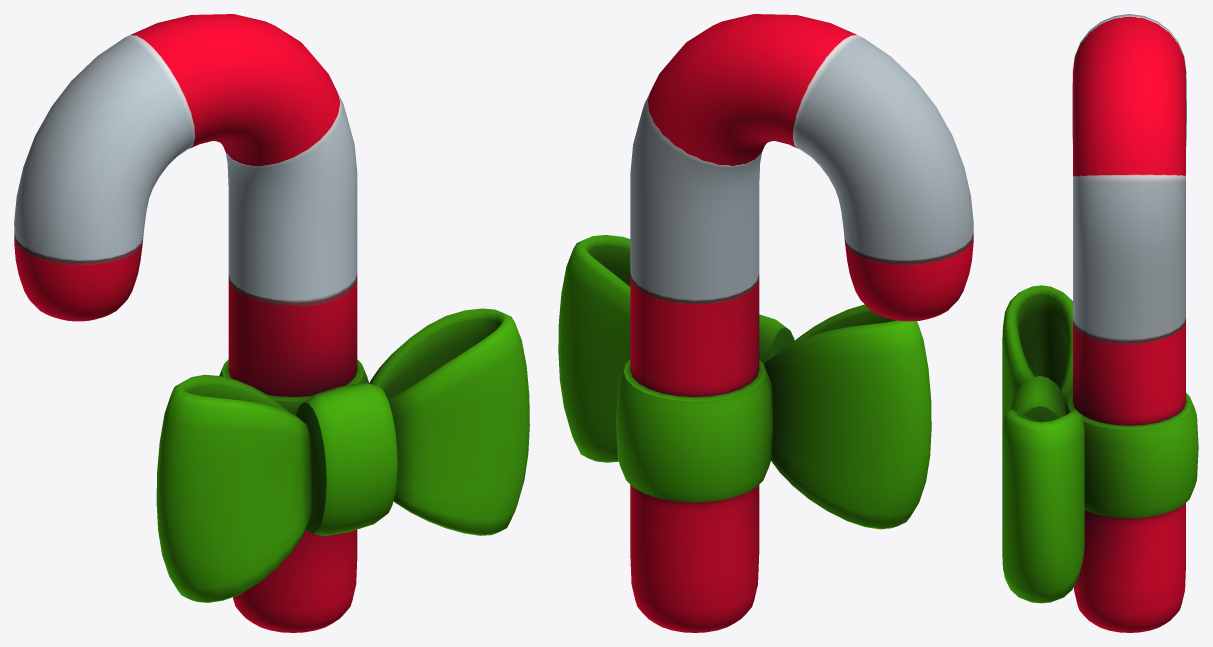
Rendered from qizi_09.FBX.
The picture shows the model from 3 angles, left to right: view 1: azimuth 30°, elevation 25°; view 2: azimuth 150°, elevation 25°; view 3: azimuth 270°, elevation 25°; orthographic projection. The views are drawn at different scales.
Visible parts, largest first — view 1: qizi_09; view 2: qizi_09; view 3: qizi_09.
Part boxes in pixels (x1,y1,x2,y2): qizi_09: [14, 14, 529, 632]; qizi_09: [558, 14, 973, 632]; qizi_09: [1002, 14, 1198, 632].
Size of the model in its own units: 71.5 by 93.92 by 30.54.
1 material, 1 textured.
